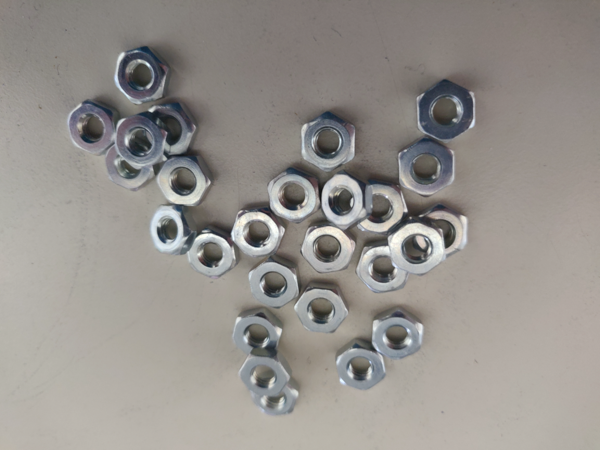nut: (416, 78, 476, 141), (299, 112, 357, 172), (115, 44, 170, 106), (66, 97, 119, 159), (155, 151, 212, 207), (401, 141, 455, 198), (266, 172, 319, 226), (229, 208, 284, 260), (296, 282, 349, 335), (111, 113, 162, 168), (389, 226, 446, 275), (301, 223, 355, 274), (321, 173, 371, 228), (369, 308, 424, 358), (246, 257, 299, 308), (357, 242, 409, 293), (357, 186, 407, 237), (104, 146, 155, 196), (334, 341, 386, 390), (185, 228, 235, 278), (417, 207, 466, 258), (231, 312, 285, 355), (149, 105, 196, 153), (237, 354, 289, 397), (149, 208, 195, 256), (251, 385, 301, 416)
